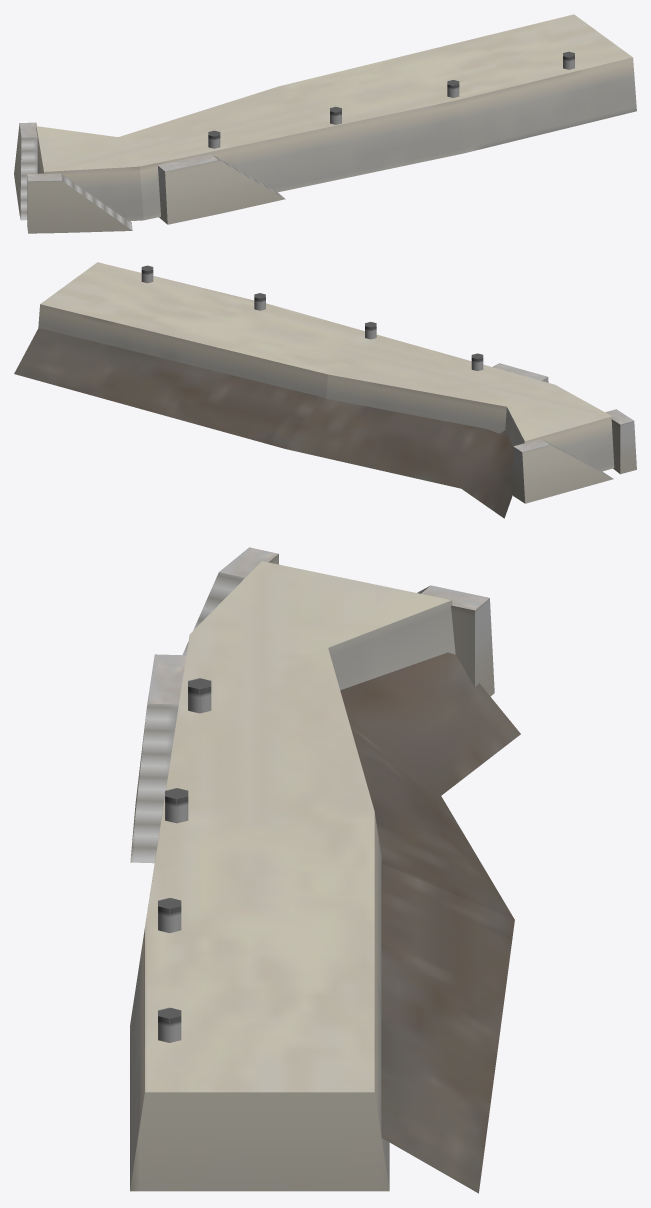
The model's file is Coach_Building_Pier_01_Mod.fbx.
The picture shows the model from 3 angles, top to bottom: view 1: azimuth 30°, elevation 25°; view 2: azimuth 150°, elevation 25°; view 3: azimuth 270°, elevation 25°; orthographic projection. The views are drawn at different scales.
Visible parts, largest first — view 1: Coach_Building_Pier_01_Mod; view 2: Coach_Building_Pier_01_Mod; view 3: Coach_Building_Pier_01_Mod.
Part boxes in pixels (x1,y1,x2,y2): Coach_Building_Pier_01_Mod: (14,14,636,233); Coach_Building_Pier_01_Mod: (14,262,636,518); Coach_Building_Pier_01_Mod: (130,547,520,1193).
Bounding box in the file's own units: 2005 × 263 × 602.
